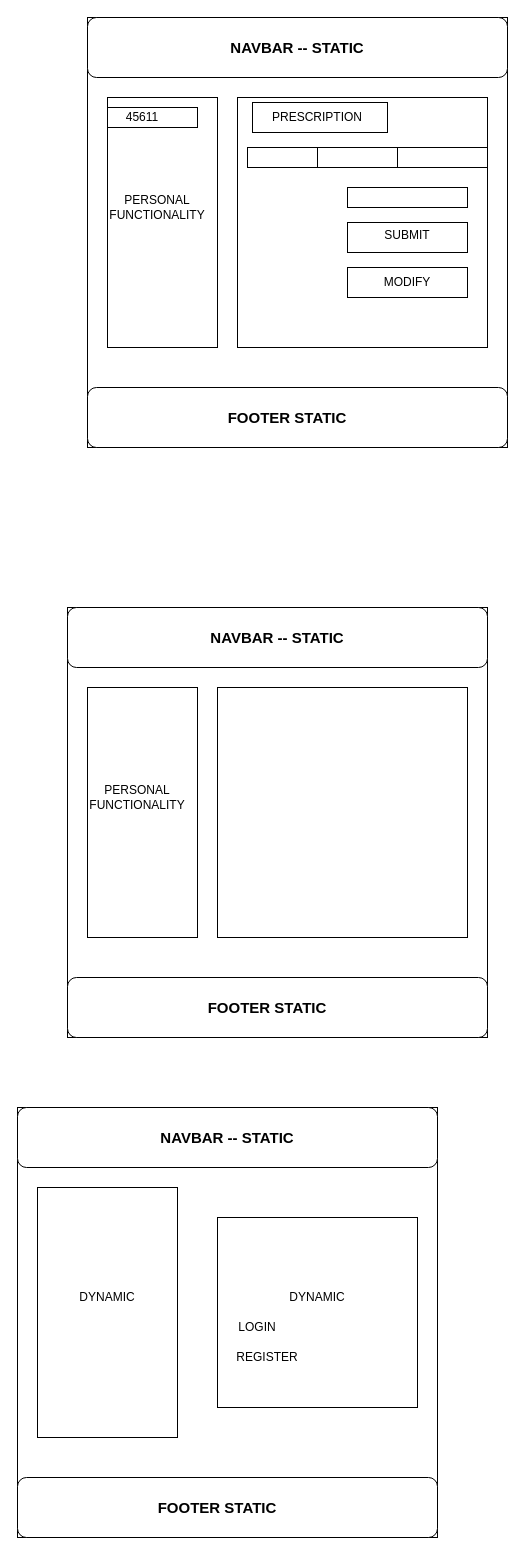
Some shapes in this 525 by 1555 pixel diagram are drawn without their labels. The shapes that lost their labels are listed below. From the top down, each one's centre as x and y in pixels, then its label:
point 407,197: ADD MORE
point 342,812: FUNCTIONALITY
